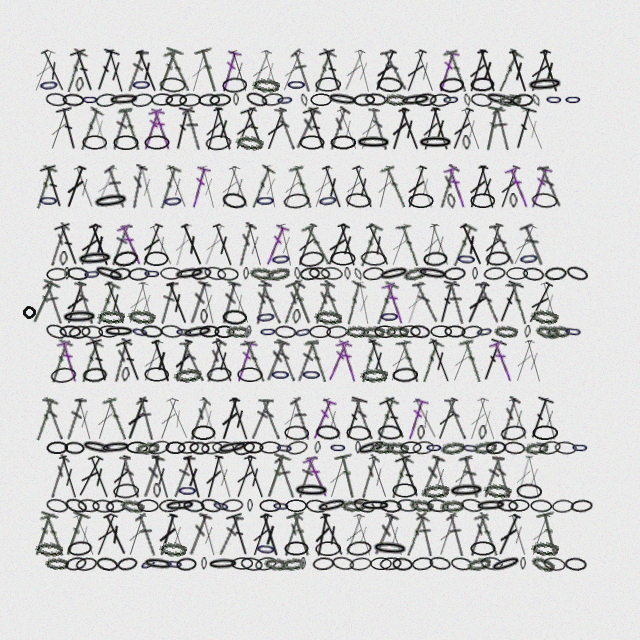chain: (92, 191, 130, 211), (489, 553, 523, 575), (92, 263, 126, 284), (355, 437, 389, 458), (526, 76, 564, 93), (483, 90, 517, 109), (76, 250, 114, 267), (377, 264, 411, 283), (80, 438, 114, 457), (315, 496, 349, 515), (371, 540, 409, 557), (448, 482, 485, 499), (216, 438, 249, 457), (181, 323, 214, 341), (61, 309, 98, 325), (326, 91, 359, 108), (173, 265, 206, 282), (416, 265, 449, 282), (355, 135, 392, 150), (417, 135, 454, 150), (293, 483, 330, 498), (399, 92, 432, 108), (142, 556, 175, 572), (173, 366, 202, 384), (421, 482, 450, 500), (530, 554, 556, 574), (221, 191, 248, 210), (112, 249, 139, 268), (99, 440, 132, 455), (402, 264, 428, 283), (235, 134, 264, 151), (127, 308, 156, 325), (530, 308, 559, 325), (483, 482, 512, 499), (283, 192, 310, 210), (298, 250, 325, 268), (50, 366, 77, 384), (500, 424, 527, 442), (108, 92, 140, 107), (164, 498, 196, 513), (475, 498, 507, 513), (244, 90, 269, 109), (44, 322, 69, 341), (265, 265, 291, 283), (466, 555, 492, 573), (376, 76, 403, 93), (205, 134, 232, 151), (345, 192, 372, 209), (531, 192, 558, 209), (360, 250, 387, 267), (565, 264, 589, 283), (147, 438, 171, 457), (64, 496, 88, 515), (352, 496, 376, 515), (252, 77, 280, 93), (314, 309, 342, 325), (360, 367, 388, 383), (35, 541, 63, 557), (159, 541, 187, 557), (207, 557, 239, 571), (485, 250, 511, 267), (206, 366, 232, 383), (315, 424, 341, 441), (377, 424, 403, 441), (472, 439, 498, 456), (67, 540, 93, 557), (346, 540, 372, 557), (159, 77, 186, 93), (232, 439, 256, 457), (97, 309, 125, 324), (531, 541, 559, 556), (103, 325, 135, 338), (82, 367, 108, 383), (392, 367, 418, 383), (113, 483, 139, 499), (516, 483, 542, 499), (359, 499, 391, 512), (203, 265, 227, 282), (285, 439, 309, 456), (538, 439, 562, 456), (45, 497, 69, 514), (199, 497, 223, 514), (460, 497, 484, 514), (64, 555, 88, 572), (254, 555, 278, 572), (331, 555, 355, 572), (428, 555, 452, 572), (222, 77, 247, 93), (439, 77, 464, 93), (497, 92, 522, 108), (423, 251, 448, 267), (222, 309, 247, 325), (535, 324, 560, 340), (284, 425, 309, 441), (346, 425, 371, 441), (135, 440, 160, 456), (440, 440, 465, 456), (524, 440, 549, 456), (120, 498, 145, 514), (280, 556, 305, 572), (138, 554, 159, 573), (190, 265, 213, 282), (315, 77, 341, 92), (113, 135, 139, 150), (144, 135, 170, 150), (299, 135, 325, 150), (330, 135, 356, 150), (408, 193, 434, 208), (330, 251, 356, 266), (237, 367, 263, 382), (532, 425, 558, 440), (315, 541, 341, 556), (470, 541, 496, 556), (130, 92, 154, 108), (460, 324, 484, 340), (95, 556, 119, 572), (470, 77, 495, 92), (82, 135, 107, 150), (470, 193, 495, 208), (144, 251, 169, 266), (249, 266, 274, 281), (144, 367, 169, 382), (191, 425, 216, 440), (392, 483, 417, 498), (341, 498, 366, 513), (409, 498, 434, 513), (284, 541, 309, 556), (317, 192, 339, 209), (518, 250, 540, 267), (95, 92, 118, 108), (470, 92, 493, 108), (109, 266, 132, 282), (522, 266, 545, 282), (68, 324, 91, 340), (305, 498, 328, 514), (75, 556, 98, 572), (116, 556, 139, 572), (240, 556, 263, 572), (349, 556, 372, 572), (450, 556, 473, 572), (543, 556, 566, 572), (38, 77, 60, 93), (162, 193, 184, 209), (270, 251, 292, 267), (255, 309, 277, 325), (255, 541, 277, 557), (45, 92, 68, 107), (261, 92, 284, 107), (364, 92, 387, 107), (414, 92, 437, 107), (66, 266, 89, 281), (308, 266, 331, 281), (320, 266, 343, 281), (362, 266, 385, 281), (443, 266, 466, 281), (483, 266, 506, 281), (544, 266, 567, 281), (140, 324, 163, 339), (160, 324, 183, 339), (177, 440, 200, 455), (412, 440, 435, 455), (77, 498, 100, 513), (158, 498, 181, 513), (221, 498, 244, 513), (396, 498, 419, 513), (426, 498, 449, 513), (496, 498, 519, 513), (312, 556, 335, 571), (379, 556, 402, 571), (411, 556, 434, 571), (480, 556, 503, 571), (456, 251, 477, 267), (361, 325, 385, 339), (385, 441, 409, 455), (440, 499, 464, 513), (264, 557, 288, 571), (299, 266, 321, 281), (409, 324, 431, 339), (485, 440, 507, 455), (429, 93, 452, 107), (511, 93, 534, 107), (274, 325, 297, 339), (503, 441, 526, 455), (554, 441, 577, 455), (379, 499, 402, 513), (570, 499, 593, 513), (564, 557, 587, 571), (130, 324, 150, 340), (293, 324, 313, 340), (211, 498, 231, 514), (131, 77, 152, 92), (286, 77, 307, 92), (38, 193, 59, 208), (255, 193, 276, 208), (379, 309, 400, 324), (270, 367, 291, 382), (301, 367, 322, 382), (177, 483, 198, 498), (384, 93, 408, 106), (226, 325, 250, 338), (345, 325, 369, 338), (385, 325, 409, 338), (494, 325, 518, 338), (546, 325, 570, 338), (370, 441, 394, 454), (45, 557, 69, 570), (62, 93, 84, 107), (165, 93, 187, 107), (179, 93, 201, 107), (198, 93, 220, 107), (209, 93, 231, 107), (353, 93, 375, 107), (46, 267, 68, 281), (128, 267, 150, 281), (217, 267, 239, 281), (81, 325, 103, 339), (326, 325, 348, 339), (201, 441, 223, 455), (92, 499, 114, 513), (105, 499, 127, 513), (183, 499, 205, 513), (530, 499, 552, 513), (552, 499, 574, 513), (64, 441, 85, 455), (189, 441, 210, 455), (176, 557, 197, 571), (392, 557, 413, 571), (151, 93, 173, 106), (310, 93, 332, 106), (160, 267, 182, 280), (506, 267, 528, 280), (59, 325, 81, 338), (98, 325, 120, 338), (309, 325, 331, 338), (374, 325, 396, 338), (399, 325, 421, 338), (430, 325, 452, 338), (444, 325, 466, 338), (46, 441, 68, 454), (126, 441, 148, 454), (212, 441, 234, 454), (259, 441, 281, 454), (400, 441, 422, 454), (137, 499, 159, 512), (259, 499, 281, 512), (285, 499, 307, 512), (508, 499, 530, 512), (231, 557, 253, 570), (370, 557, 392, 570), (475, 324, 494, 339), (564, 324, 583, 339), (199, 325, 220, 338), (214, 325, 235, 338), (165, 441, 186, 454), (243, 441, 264, 454), (275, 441, 294, 455), (461, 441, 480, 455), (165, 557, 184, 571), (276, 93, 294, 107), (83, 267, 101, 281), (175, 325, 193, 339), (272, 499, 290, 513), (81, 93, 99, 106), (442, 93, 460, 106), (545, 93, 563, 106), (564, 93, 582, 106), (143, 267, 161, 280), (259, 325, 277, 338), (329, 441, 347, 454), (425, 441, 443, 454), (571, 441, 589, 454), (446, 193, 457, 209), (531, 93, 542, 107), (353, 267, 364, 281), (75, 77, 84, 92), (462, 135, 471, 150), (509, 193, 518, 208), (59, 251, 68, 266), (292, 309, 301, 324), (121, 367, 130, 382), (478, 425, 487, 440), (300, 93, 309, 107), (463, 93, 472, 107), (200, 309, 208, 324), (417, 425, 425, 440), (153, 483, 161, 498), (244, 325, 252, 339), (294, 267, 301, 280), (344, 267, 351, 280), (524, 325, 531, 338), (314, 441, 321, 454), (233, 93, 239, 106), (64, 267, 70, 280), (243, 267, 249, 280), (472, 267, 478, 280), (355, 441, 361, 454), (247, 499, 253, 512), (201, 557, 207, 570), (300, 557, 306, 570), (520, 557, 526, 570)
double: (26, 279, 61, 326), (378, 395, 412, 442), (300, 222, 334, 268), (285, 279, 318, 326), (492, 48, 525, 94), (523, 280, 556, 326), (152, 47, 184, 94), (239, 105, 271, 152), (53, 221, 85, 268), (493, 279, 525, 326), (115, 337, 147, 384), (260, 453, 292, 500), (394, 453, 426, 500), (59, 511, 91, 558), (73, 454, 106, 499), (162, 48, 194, 94), (245, 164, 277, 210), (146, 222, 178, 268), (446, 222, 478, 268), (508, 222, 540, 268), (317, 512, 349, 558), (69, 47, 100, 94), (90, 47, 121, 94), (477, 337, 508, 384), (524, 395, 555, 442), (28, 511, 59, 558), (286, 511, 317, 558), (410, 396, 442, 441), (74, 106, 105, 152), (291, 106, 322, 152), (379, 164, 410, 210), (322, 222, 353, 268), (353, 222, 384, 268), (363, 222, 394, 268), (90, 280, 121, 326), (369, 280, 400, 326), (462, 280, 493, 326), (369, 512, 400, 558), (400, 512, 431, 558), (493, 512, 524, 558), (194, 47, 224, 94), (318, 47, 348, 94), (302, 105, 332, 152), (39, 163, 69, 210), (339, 395, 369, 442), (225, 511, 255, 558), (38, 48, 69, 93), (100, 512, 131, 557), (132, 48, 162, 94), (277, 48, 307, 94), (308, 48, 338, 94), (230, 106, 260, 152), (333, 106, 363, 152), (447, 106, 477, 152), (519, 106, 549, 152), (75, 222, 105, 268), (519, 222, 549, 268), (225, 280, 255, 326), (44, 338, 74, 384), (75, 338, 105, 384), (240, 338, 270, 384), (261, 338, 291, 384), (447, 338, 477, 384), (29, 396, 59, 442), (101, 396, 131, 442), (370, 396, 400, 442), (385, 454, 415, 500), (416, 454, 446, 500), (70, 512, 100, 558), (91, 512, 121, 558), (509, 105, 538, 152), (85, 337, 114, 384), (339, 48, 369, 93), (370, 48, 400, 93), (116, 222, 146, 267), (457, 222, 487, 267), (323, 338, 353, 383), (163, 396, 193, 441), (302, 454, 332, 499), (29, 48, 58, 94), (60, 48, 89, 94), (246, 48, 275, 94), (401, 48, 430, 94), (411, 48, 440, 94), (442, 48, 471, 94), (525, 48, 554, 94), (261, 106, 290, 152), (395, 106, 424, 152), (29, 164, 58, 210), (70, 164, 99, 210), (91, 164, 120, 210), (153, 164, 182, 210), (163, 164, 192, 210), (225, 164, 254, 210), (349, 164, 378, 210), (504, 164, 533, 210), (137, 222, 166, 268), (199, 222, 228, 268), (209, 222, 238, 268), (261, 222, 290, 268), (395, 222, 424, 268), (426, 222, 455, 268), (101, 280, 130, 326), (163, 280, 192, 326), (209, 338, 238, 384), (385, 338, 414, 384), (395, 338, 424, 384), (416, 338, 445, 384), (426, 338, 455, 384), (488, 338, 517, 384), (122, 396, 151, 442), (308, 396, 337, 442), (85, 454, 114, 500), (39, 512, 68, 558), (184, 512, 213, 558), (473, 512, 502, 558), (55, 105, 83, 152), (433, 279, 461, 326), (334, 453, 362, 500), (536, 511, 564, 558), (380, 48, 409, 93), (178, 222, 207, 267), (45, 106, 73, 152), (355, 106, 383, 152), (458, 106, 486, 152), (61, 164, 89, 210), (278, 164, 306, 210), (288, 164, 316, 210), (319, 164, 347, 210), (402, 164, 430, 210), (495, 164, 523, 210), (86, 222, 114, 268), (386, 222, 414, 268), (61, 280, 89, 326), (123, 280, 151, 326), (138, 338, 166, 384), (303, 338, 331, 384), (355, 338, 383, 384), (510, 338, 538, 384), (154, 396, 182, 442), (226, 396, 254, 442), (319, 396, 347, 442), (433, 396, 461, 442), (464, 396, 492, 442), (505, 396, 533, 442), (138, 454, 166, 500), (231, 454, 259, 500), (241, 454, 269, 500), (365, 454, 393, 500), (448, 454, 476, 500), (247, 512, 275, 558), (340, 512, 368, 558), (381, 512, 409, 558), (433, 512, 461, 558), (526, 512, 554, 558), (215, 513, 244, 557), (278, 280, 306, 325), (412, 280, 440, 325), (226, 48, 253, 94), (464, 48, 491, 94), (474, 48, 501, 94), (117, 106, 144, 152), (148, 106, 175, 152), (169, 106, 196, 152), (210, 106, 237, 152), (427, 106, 454, 152), (479, 106, 506, 152), (216, 164, 243, 210), (309, 164, 336, 210), (340, 164, 367, 210), (443, 164, 470, 210), (464, 164, 491, 210), (526, 164, 553, 210), (293, 222, 320, 268), (334, 222, 361, 268), (185, 280, 212, 326), (340, 280, 367, 326), (381, 280, 408, 326), (402, 280, 429, 326), (505, 280, 532, 326), (148, 338, 175, 384), (365, 338, 392, 384), (458, 338, 485, 384), (92, 396, 119, 442), (216, 396, 243, 442), (474, 396, 501, 442), (324, 454, 351, 500), (458, 454, 485, 500), (123, 512, 150, 558), (154, 512, 181, 558), (164, 512, 191, 558), (257, 512, 284, 558), (350, 512, 377, 558), (505, 512, 532, 558), (179, 339, 207, 383), (324, 106, 351, 151), (489, 222, 516, 267), (309, 280, 336, 325), (103, 48, 129, 94), (186, 48, 212, 94), (434, 48, 460, 94), (506, 48, 532, 94), (537, 48, 563, 94), (87, 106, 113, 152), (139, 106, 165, 152), (242, 222, 268, 268), (480, 222, 506, 268), (537, 280, 563, 326), (56, 338, 82, 384), (170, 338, 196, 384), (232, 338, 258, 384), (335, 338, 361, 384), (521, 338, 547, 384), (196, 396, 222, 442), (403, 396, 429, 442), (56, 454, 82, 500), (108, 454, 134, 500), (180, 454, 206, 500), (211, 454, 237, 500), (289, 48, 315, 93), (103, 164, 129, 209), (434, 164, 460, 209), (537, 164, 563, 209), (41, 280, 67, 325), (475, 280, 501, 325), (201, 338, 227, 383), (248, 396, 274, 441), (170, 454, 196, 499), (273, 454, 299, 499), (134, 512, 160, 557), (217, 48, 242, 94), (258, 48, 283, 94), (351, 48, 376, 94), (201, 106, 226, 152), (387, 106, 412, 152), (418, 106, 443, 152), (196, 164, 221, 210), (413, 164, 438, 210), (475, 164, 500, 210), (170, 222, 195, 268), (217, 280, 242, 326), (72, 396, 97, 442), (279, 396, 304, 442), (537, 396, 562, 442), (149, 454, 174, 500), (201, 454, 226, 500), (428, 454, 453, 500), (511, 454, 536, 500), (196, 512, 221, 558), (258, 281, 284, 325), (186, 397, 212, 441), (124, 48, 149, 93), (46, 222, 71, 267), (108, 222, 133, 267), (320, 280, 345, 325), (108, 338, 133, 383), (294, 338, 319, 383), (258, 396, 283, 441), (289, 396, 314, 441), (351, 396, 376, 441), (444, 396, 469, 441), (496, 396, 521, 441), (46, 454, 71, 499), (480, 454, 505, 499), (135, 164, 159, 210), (187, 164, 211, 210), (274, 222, 298, 268), (135, 280, 159, 326), (522, 454, 546, 500), (181, 106, 205, 151), (274, 106, 298, 151), (233, 222, 257, 267), (274, 338, 298, 383), (42, 396, 66, 441), (63, 396, 87, 441), (357, 454, 381, 499), (280, 512, 304, 557), (466, 512, 490, 557), (373, 164, 396, 210), (197, 280, 220, 326), (311, 512, 334, 558), (109, 106, 132, 151), (491, 106, 514, 151), (445, 280, 468, 325), (135, 396, 158, 441), (119, 454, 142, 499), (295, 454, 318, 499), (445, 512, 468, 557), (420, 222, 442, 268), (353, 280, 375, 326), (368, 106, 390, 151), (126, 164, 148, 209), (260, 164, 282, 209), (74, 280, 96, 325), (157, 280, 179, 325), (250, 280, 272, 325), (415, 512, 437, 557), (492, 454, 513, 499)
noise: (21, 304, 37, 320)
